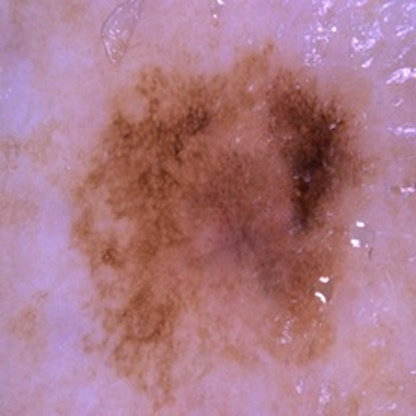malignant: (99, 92, 341, 356)
